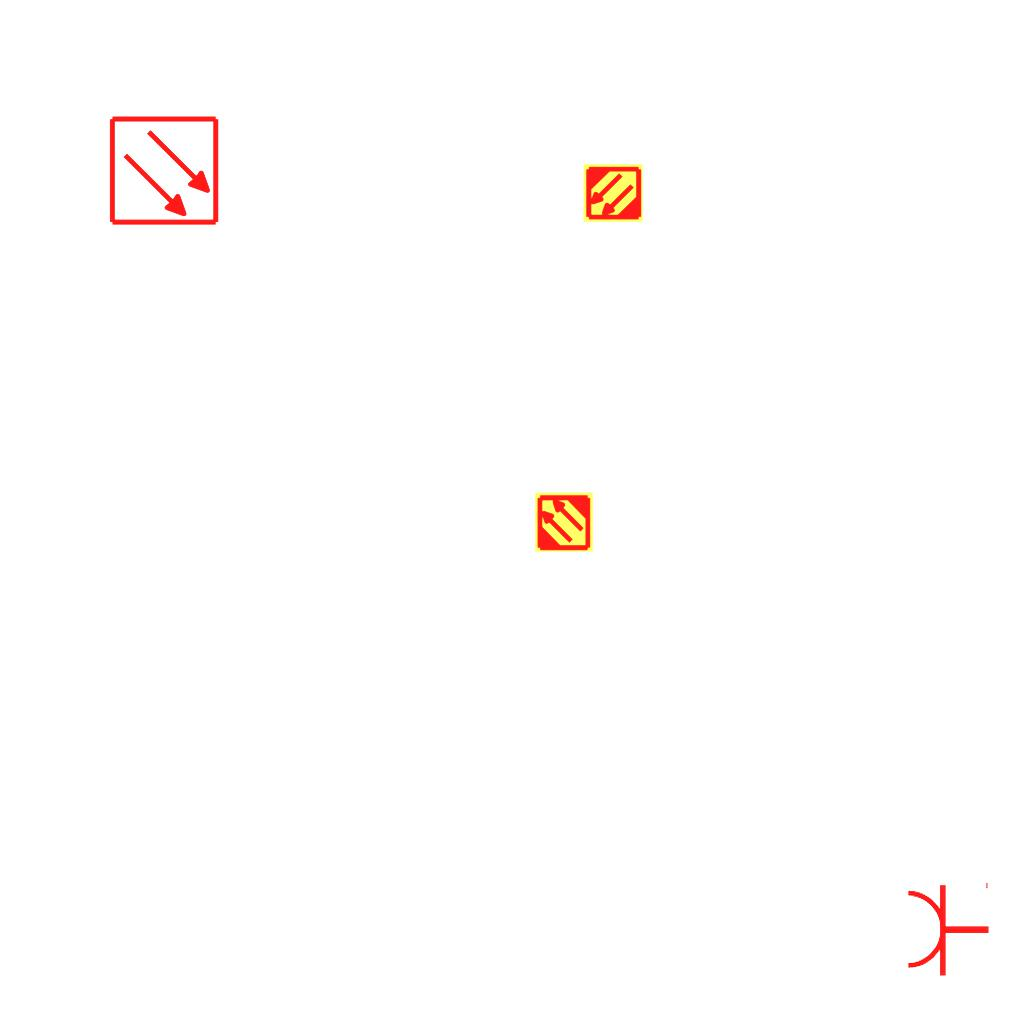ASR_Ansaugrauchmelder: (582, 162, 644, 224), (533, 491, 595, 553)
RMO_Rauchmelder_optischer: (108, 114, 221, 227)
Schukosteckdose_einfach: (904, 878, 991, 978)
